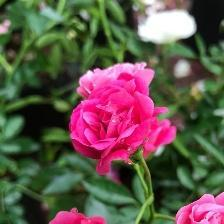rose: (69, 72, 179, 177), (176, 192, 224, 224), (49, 206, 107, 224)
